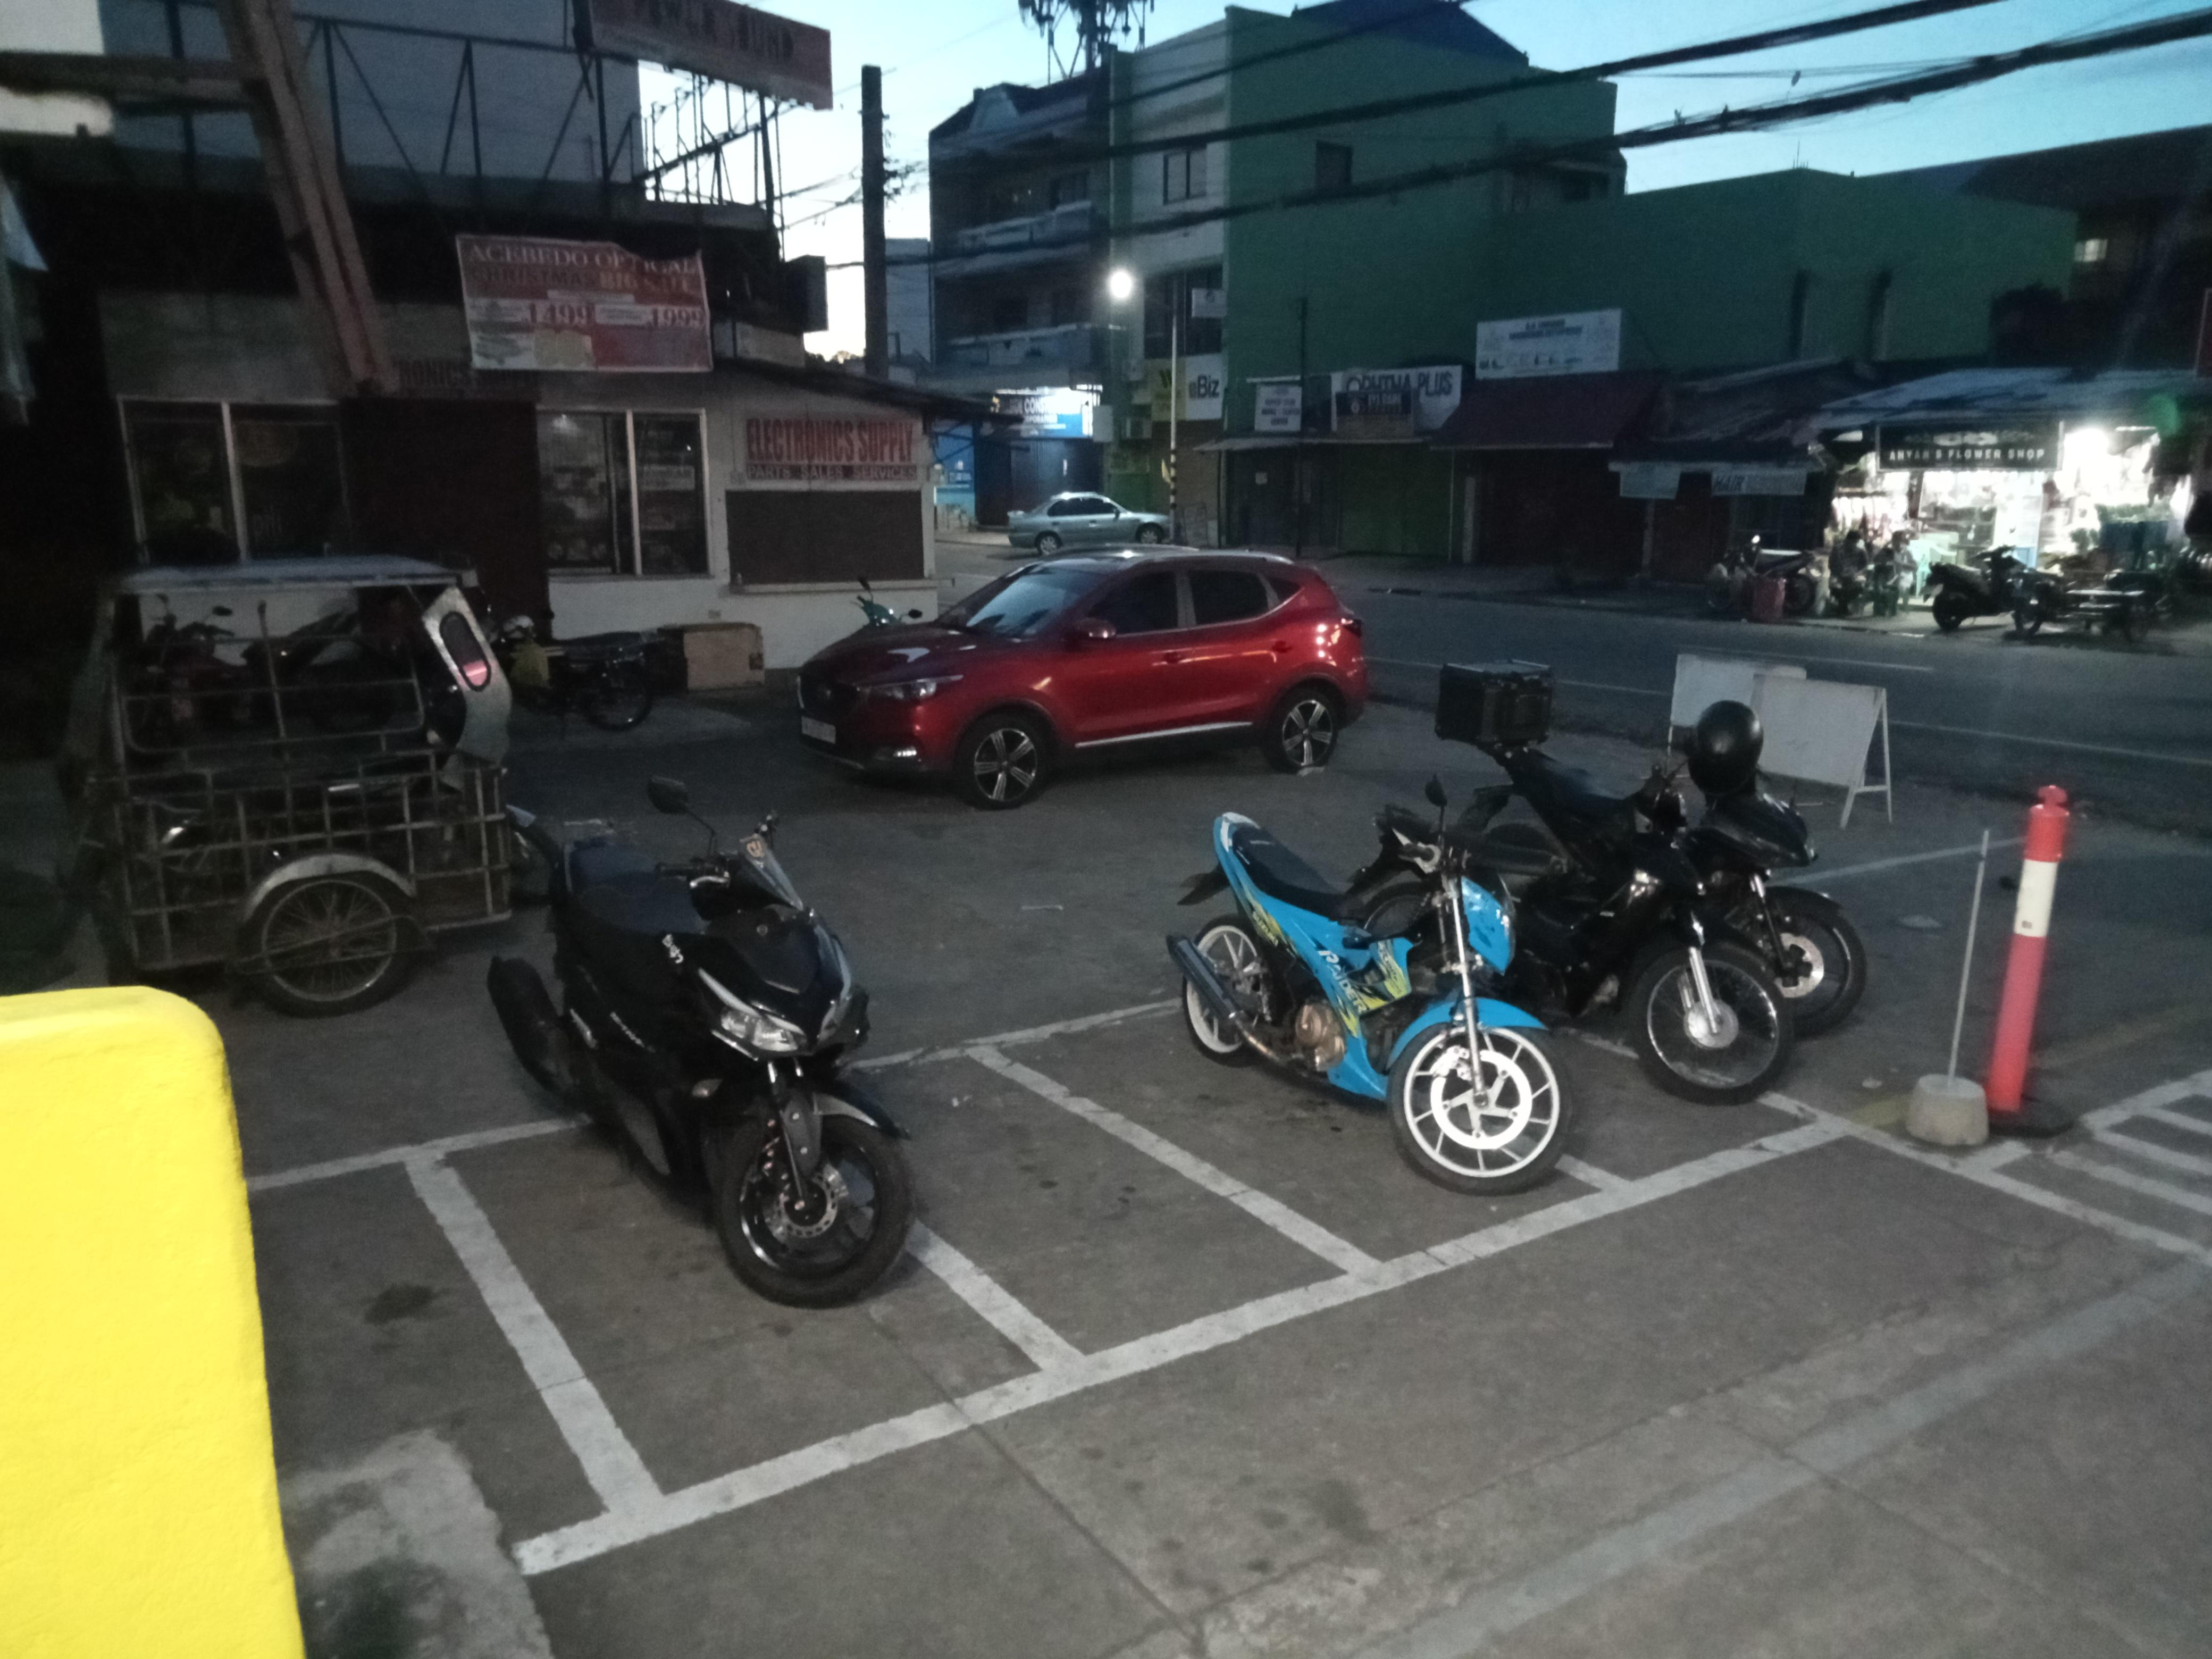occupied: (397, 1070, 1105, 1538), (952, 985, 1654, 1295)
vacant: (735, 1033, 1406, 1396)
